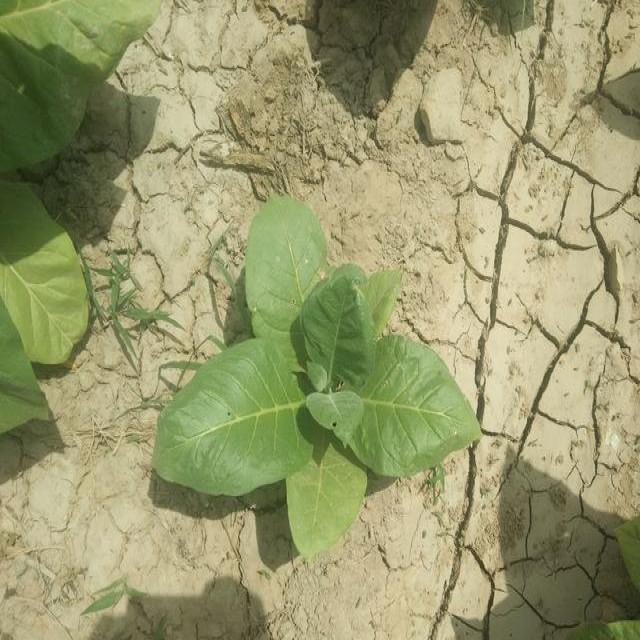crop: (155, 200, 483, 541), (0, 0, 159, 166), (0, 173, 86, 443)
